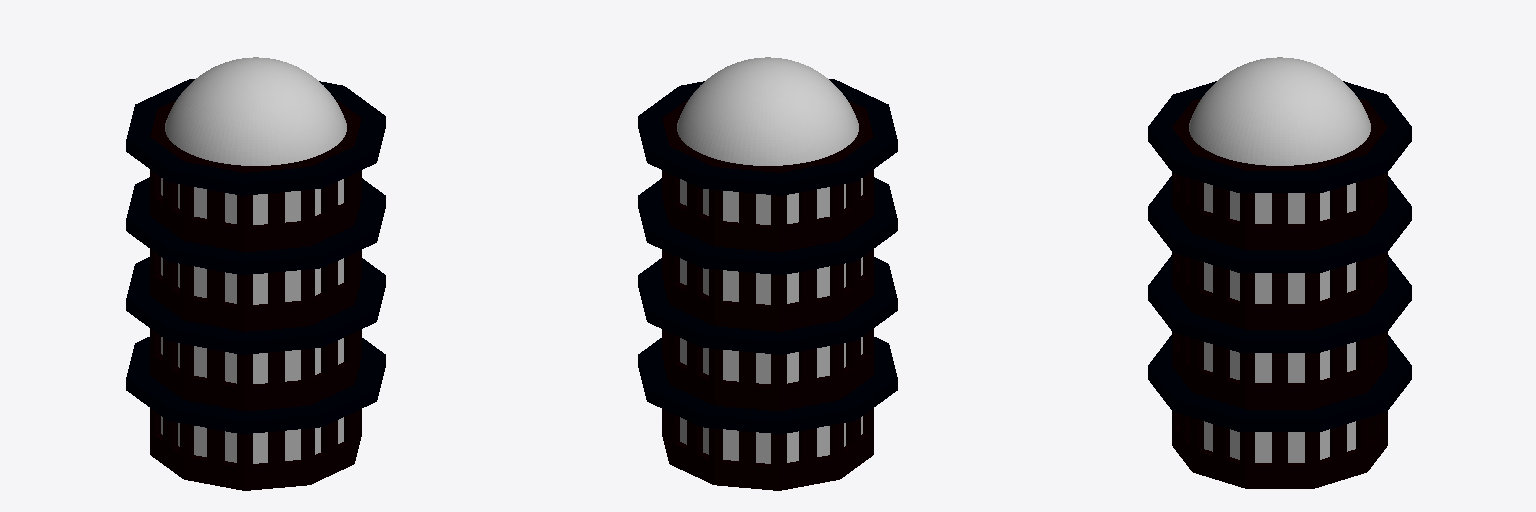
Rendered from Edificio2.obj.
The picture shows the model from 3 angles: view 1: azimuth 30°, elevation 25°; view 2: azimuth 150°, elevation 25°; view 3: azimuth 270°, elevation 25°; orthographic projection.
Parts seen in each view (by area): view 1: Cylinder.001, Sphere; view 2: Cylinder.001, Sphere; view 3: Cylinder.001, Sphere.
Boxes of the visible parts, box(x1,y1,x2,y2) form: Cylinder.001: box(126, 79, 385, 490); Sphere: box(165, 57, 346, 165); Cylinder.001: box(638, 79, 897, 490); Sphere: box(677, 57, 858, 165); Cylinder.001: box(1148, 81, 1411, 488); Sphere: box(1189, 57, 1370, 165).
Bounding box in the file's own units: 1.76 × 2.93 × 1.85.